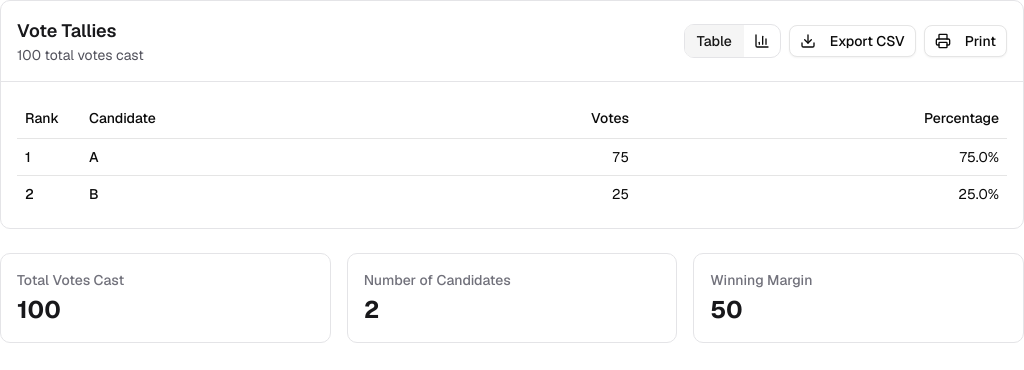
Test case: ResultsDisplay › chart view rendering › should display percentages in chart view
The image size is (1024, 370).
Click the button named "Show results as chart". click: (762, 41)
box: left=744, top=25, right=780, bottom=57
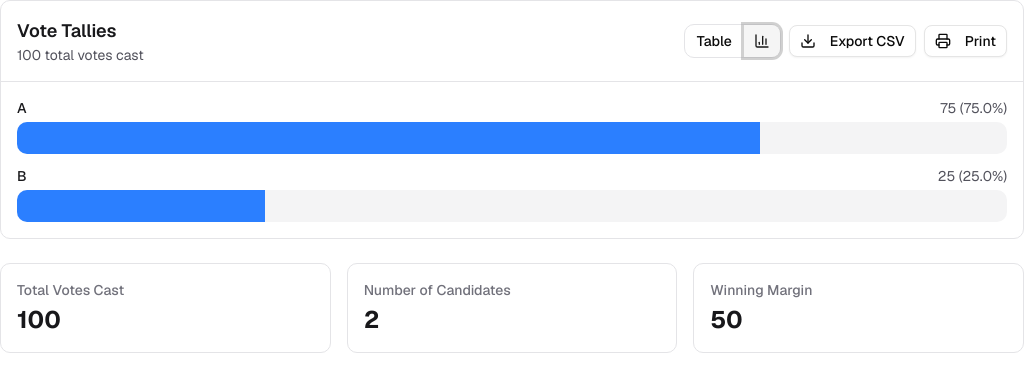
Result: the text "75 (75.0%)" is shown at left=940, top=98, right=1007, bottom=118
Result: the text "25 (25.0%)" is shown at left=938, top=166, right=1007, bottom=186
